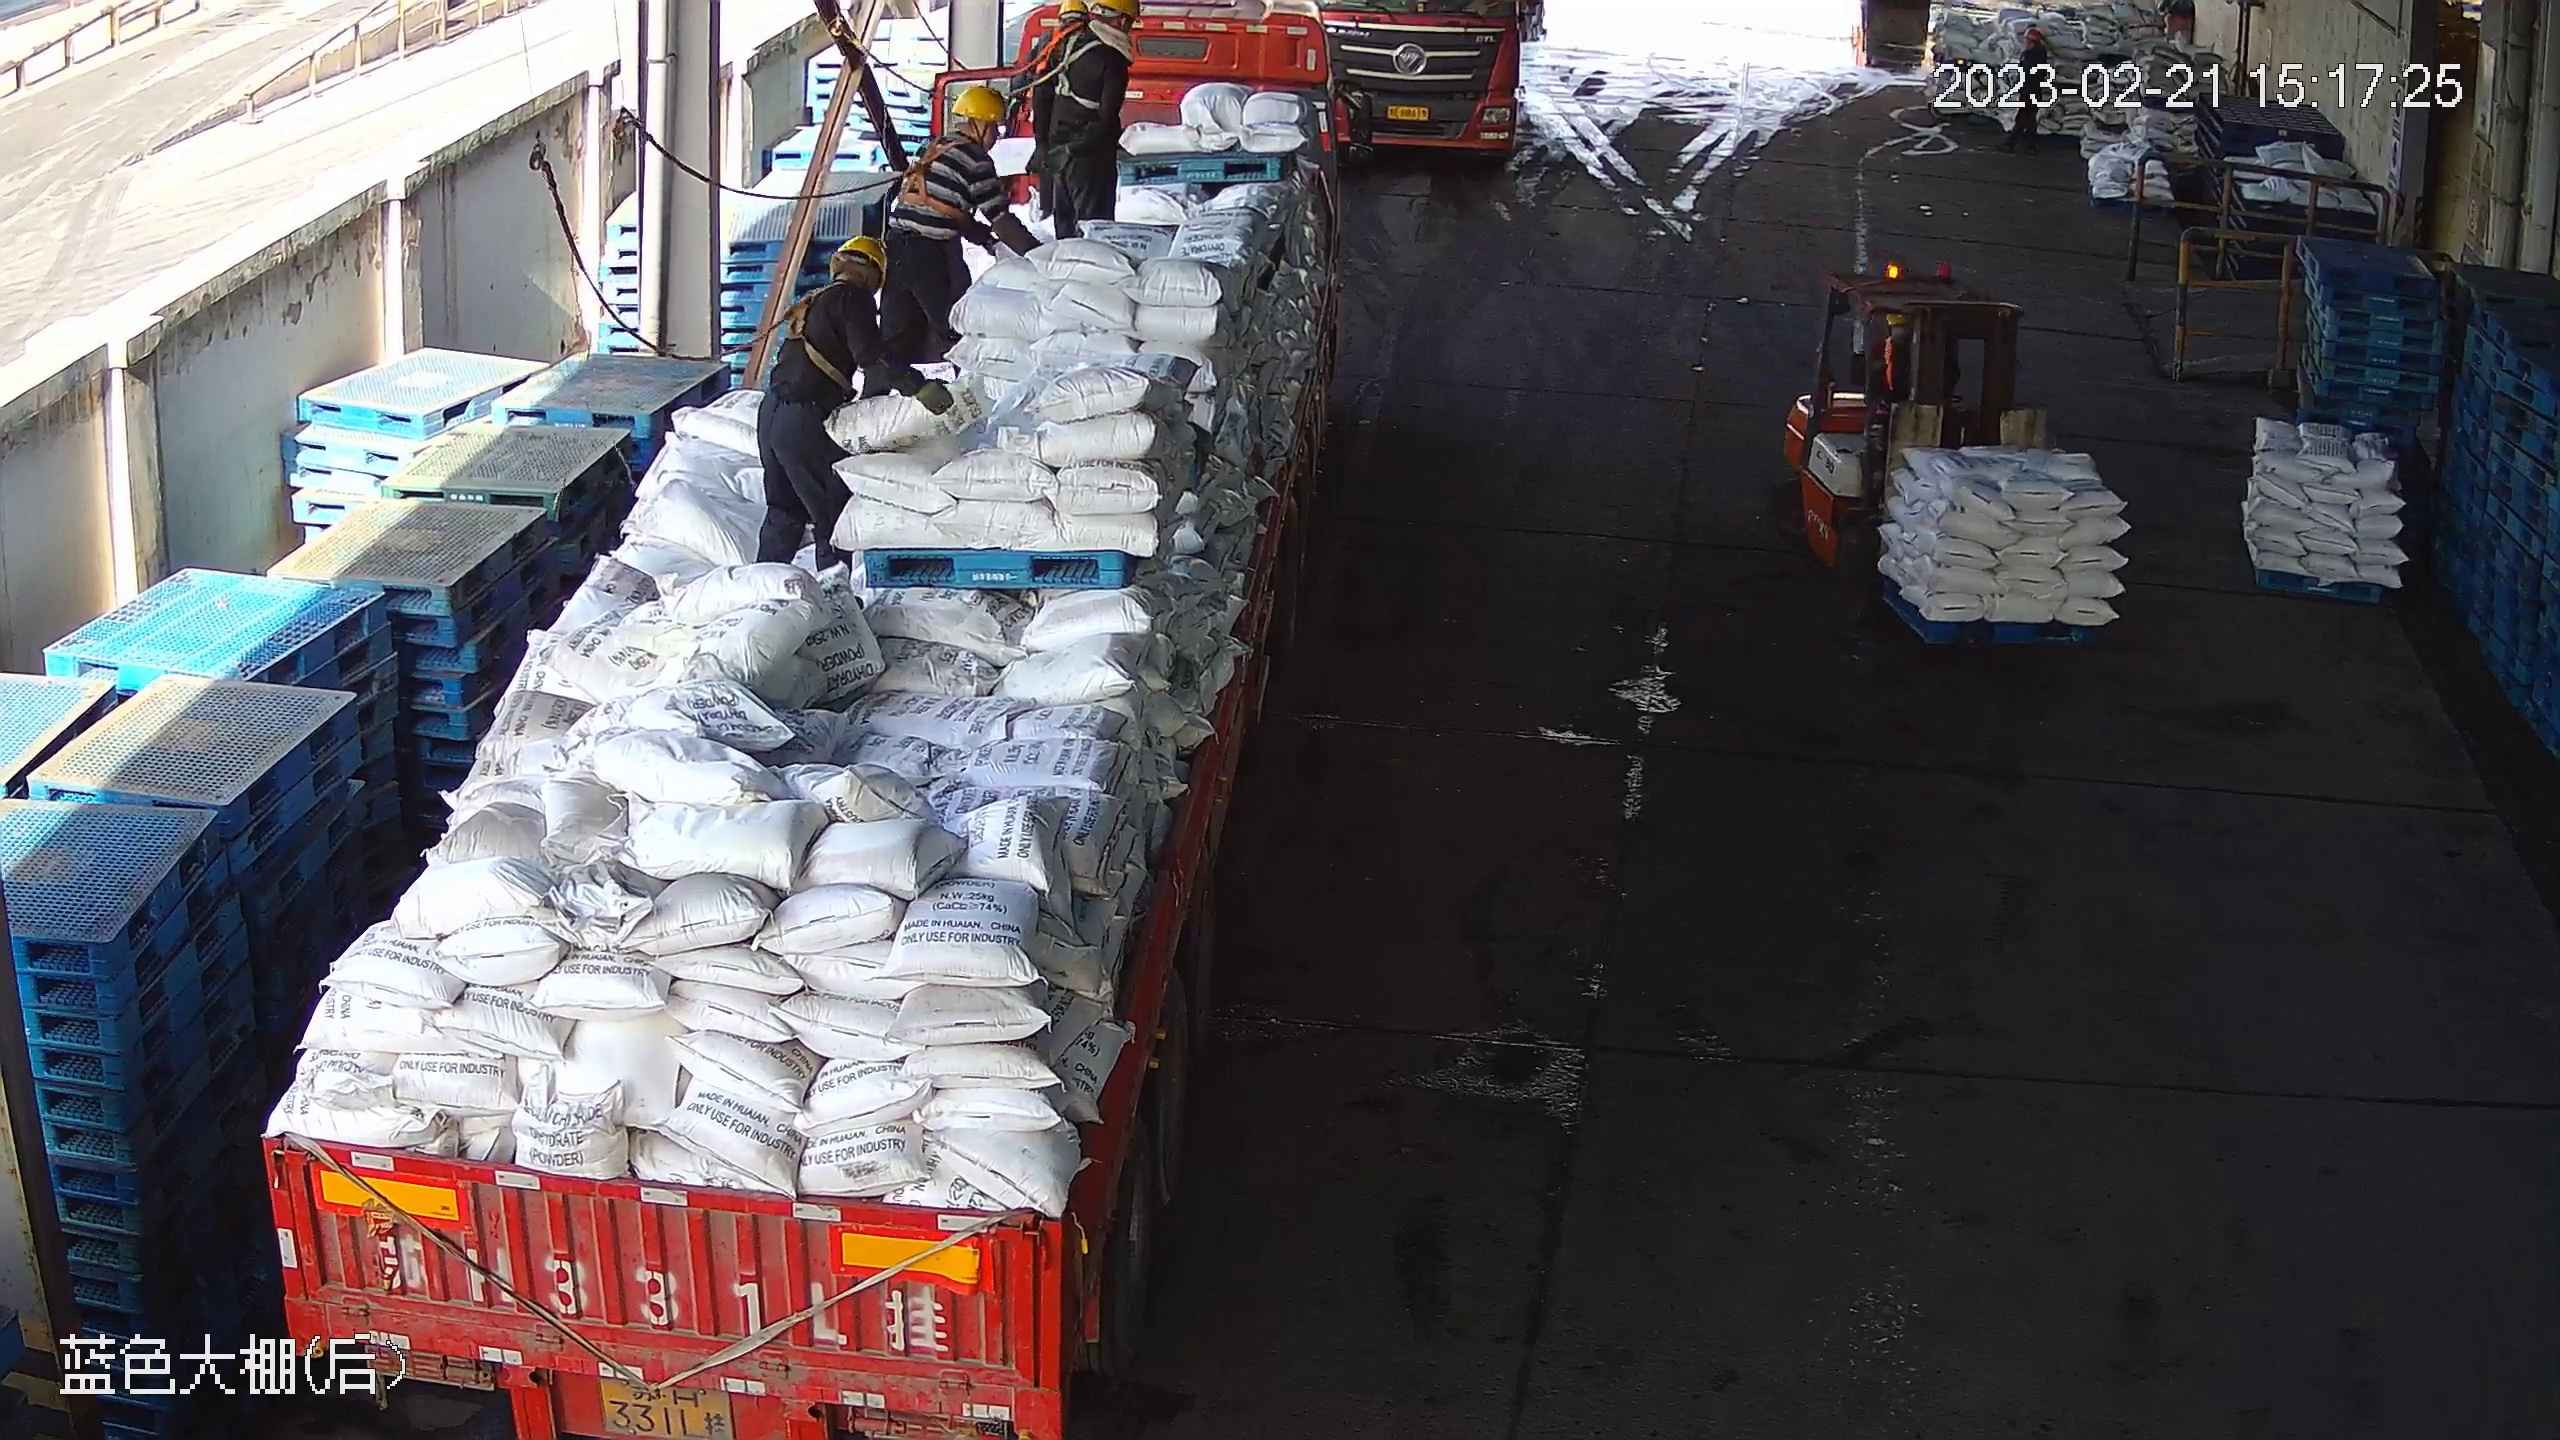belt: (775, 283, 858, 384), (899, 135, 968, 217), (1065, 36, 1112, 108), (1031, 24, 1070, 67)
head: (809, 235, 886, 315), (926, 86, 1003, 160), (1075, 1, 1139, 57)
helmet: (835, 227, 884, 286), (952, 85, 1007, 122), (1097, 1, 1144, 20), (1061, 1, 1087, 14)
people: (755, 235, 955, 579), (885, 86, 1045, 365), (1056, 1, 1135, 238)
truck: (251, 1, 1337, 1440)
